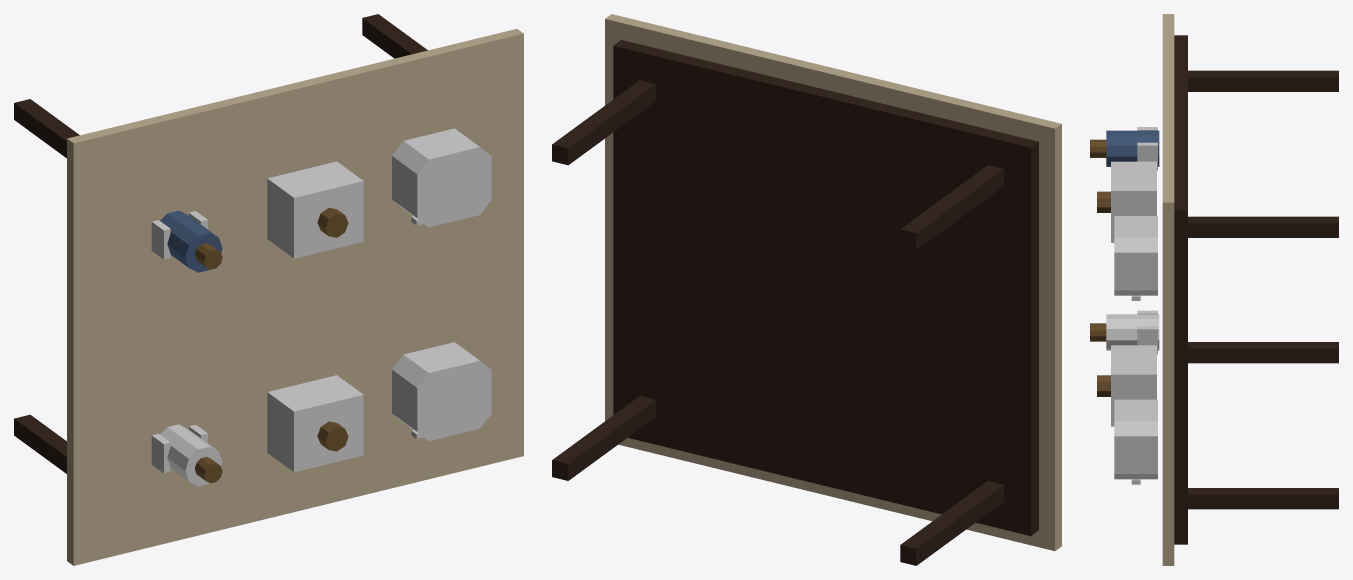
Rendered from SM_BSW_Department_FeatureTable_A.obj.
3 views of the same model, side by side, from view 1: azimuth 30°, elevation 25°; view 2: azimuth 150°, elevation 25°; view 3: azimuth 270°, elevation 25° (orthographic). The views are drawn at different scales.
Parts seen in each view (by area): view 1: SM_BSW_Department_FeatureTable_A; view 2: SM_BSW_Department_FeatureTable_A; view 3: SM_BSW_Department_FeatureTable_A.
Part boxes in pixels (x1,y1,x2,y2): SM_BSW_Department_FeatureTable_A: (14,14,523,565); SM_BSW_Department_FeatureTable_A: (552,14,1061,565); SM_BSW_Department_FeatureTable_A: (1090,14,1338,565).
Size of the model in its own units: 194 by 174 by 108.
